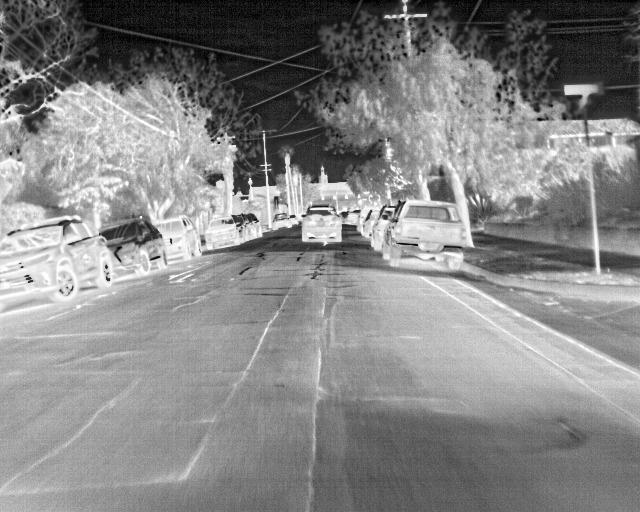car: (0, 213, 114, 306), (381, 198, 468, 272), (99, 216, 167, 278), (153, 213, 203, 261), (203, 213, 247, 252), (303, 205, 343, 243), (370, 207, 396, 252), (246, 211, 262, 242), (271, 211, 293, 230), (361, 210, 377, 234), (346, 209, 358, 226), (290, 211, 302, 223)
